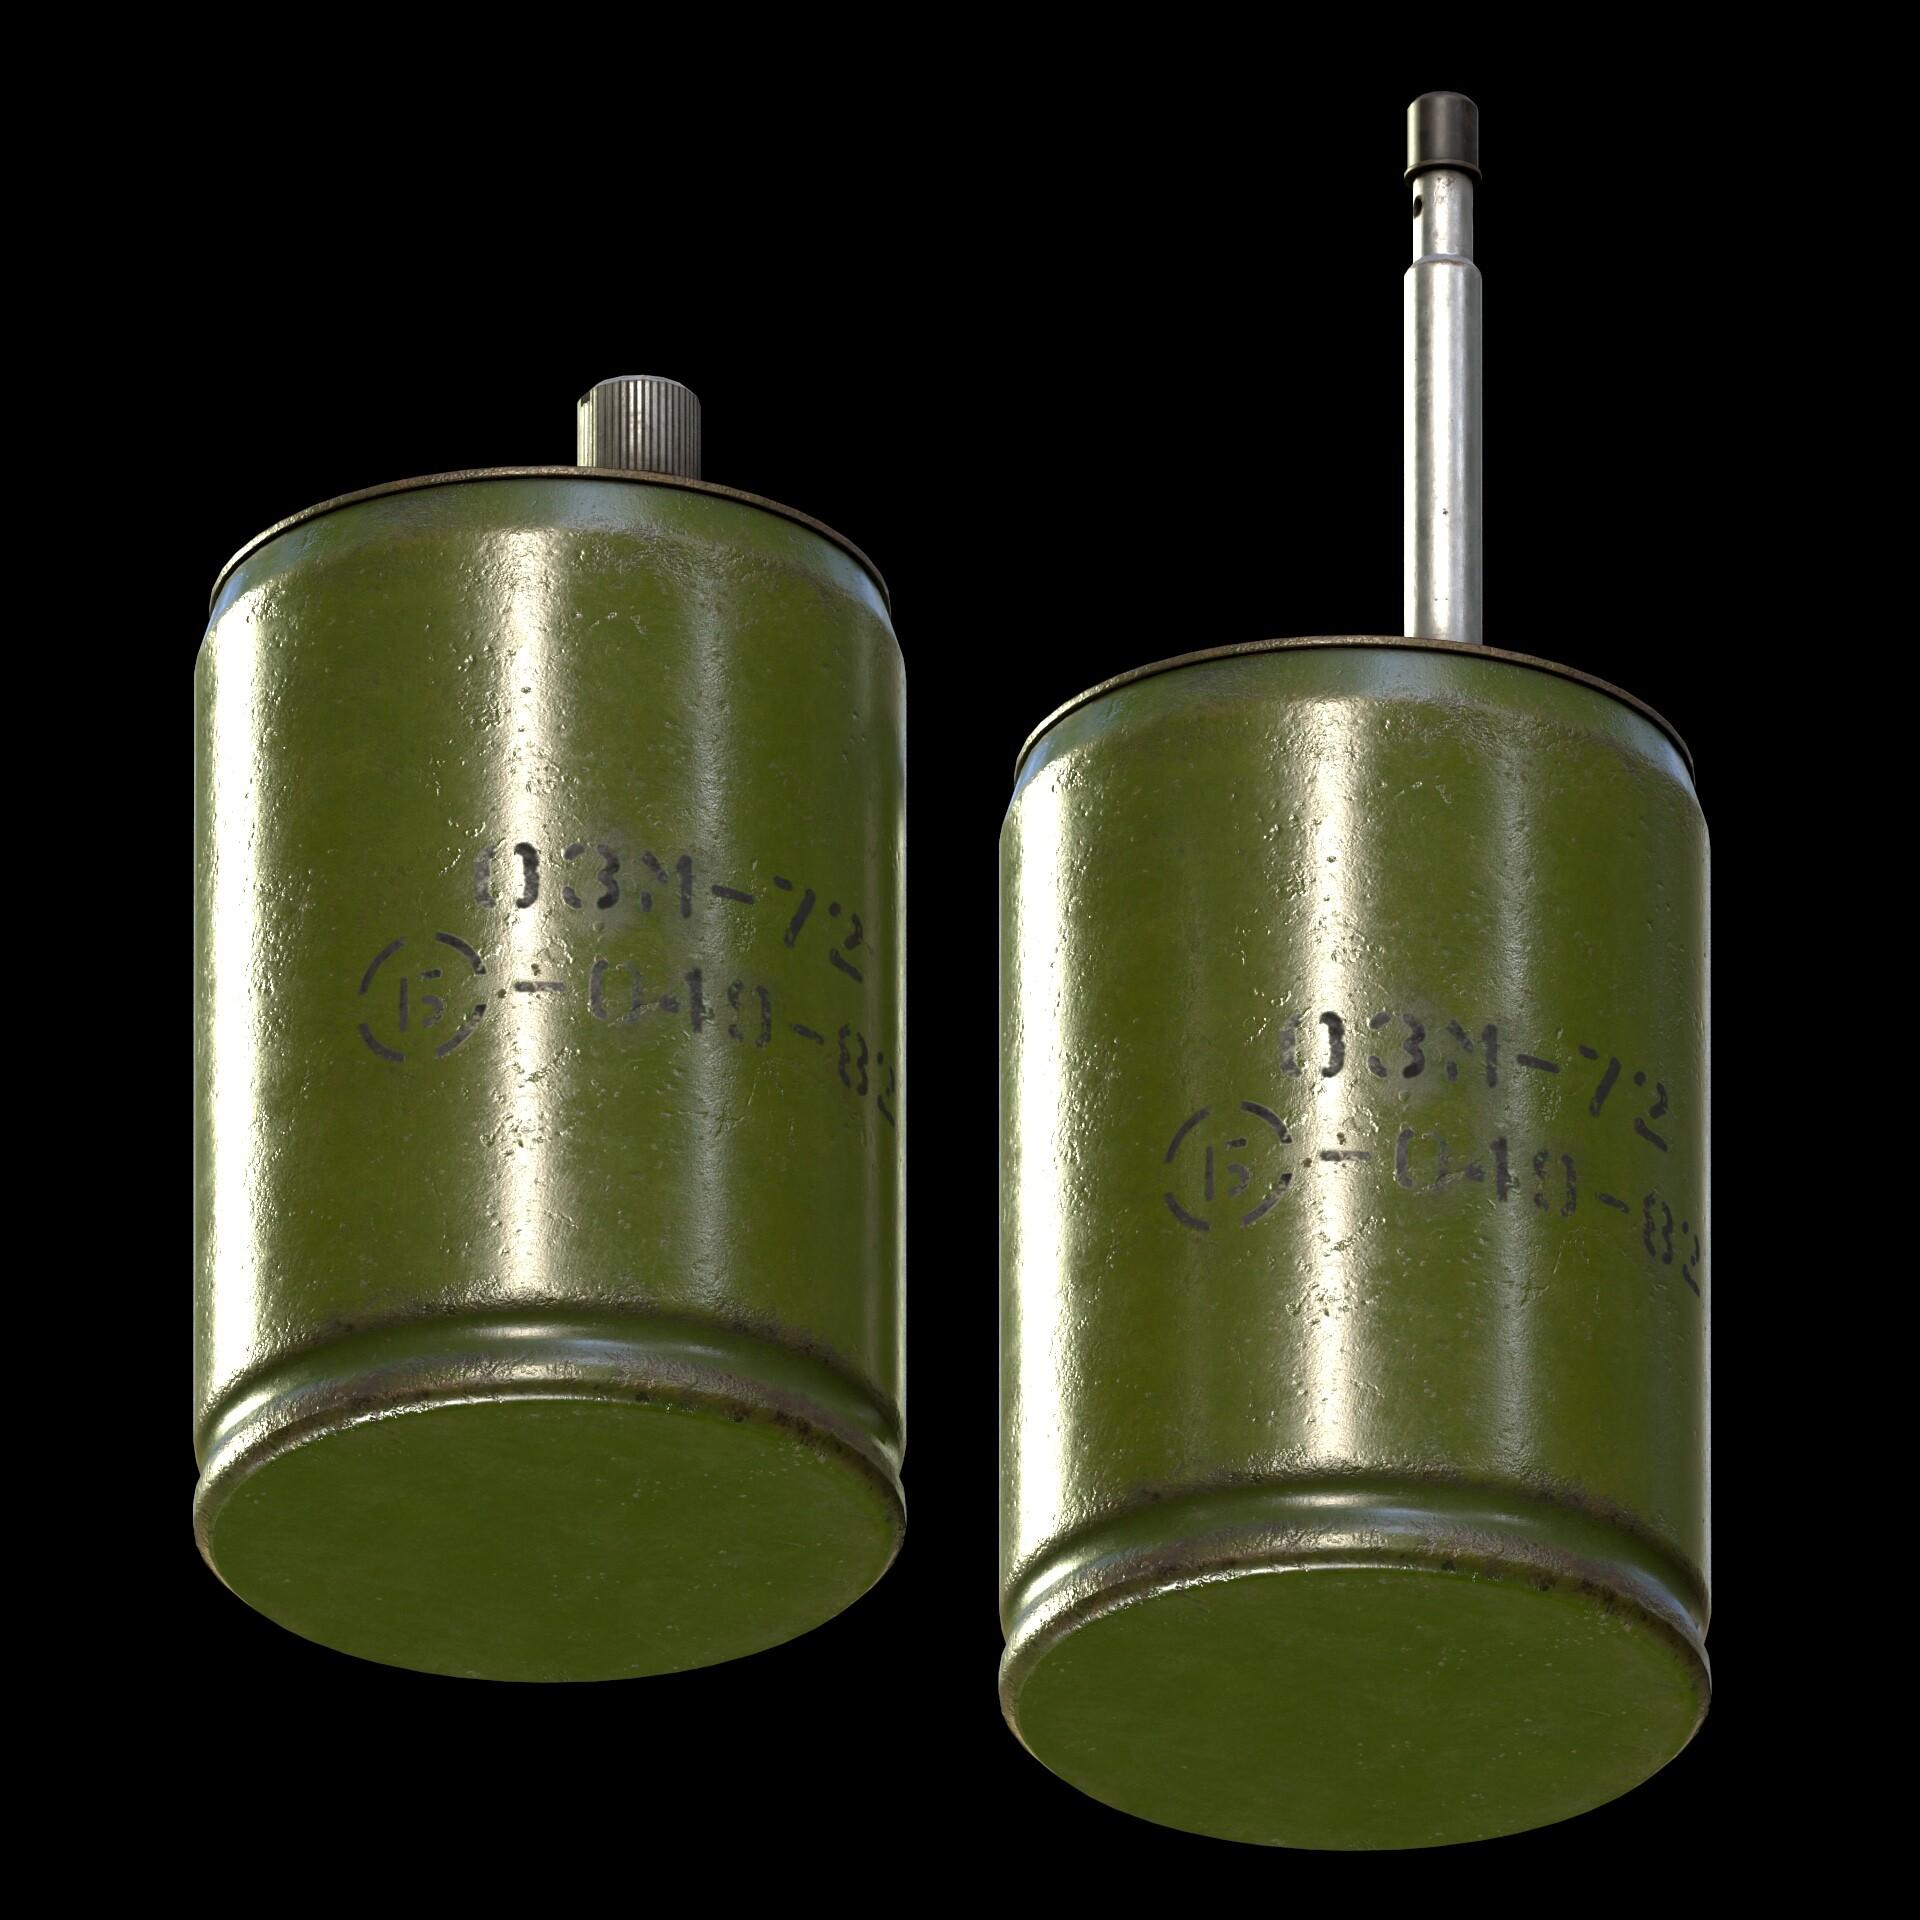OZM 72: (988, 86, 1721, 1857), (176, 359, 921, 1677)
